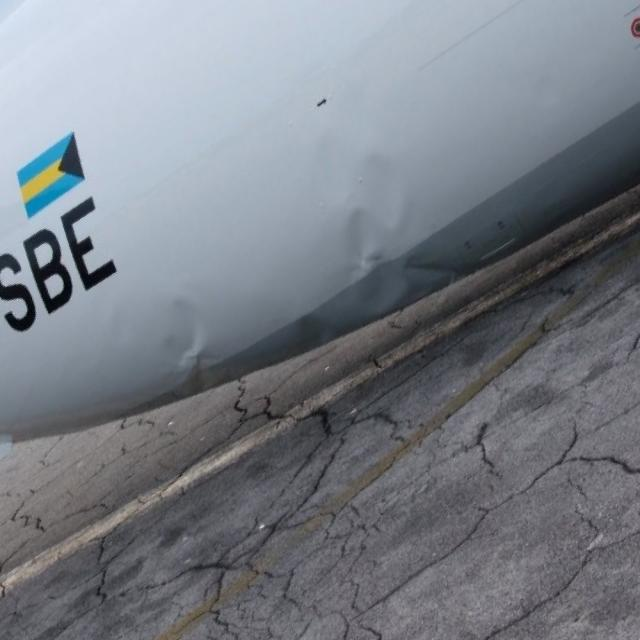dent: (305, 128, 422, 318), (149, 290, 232, 410), (291, 322, 341, 361)
